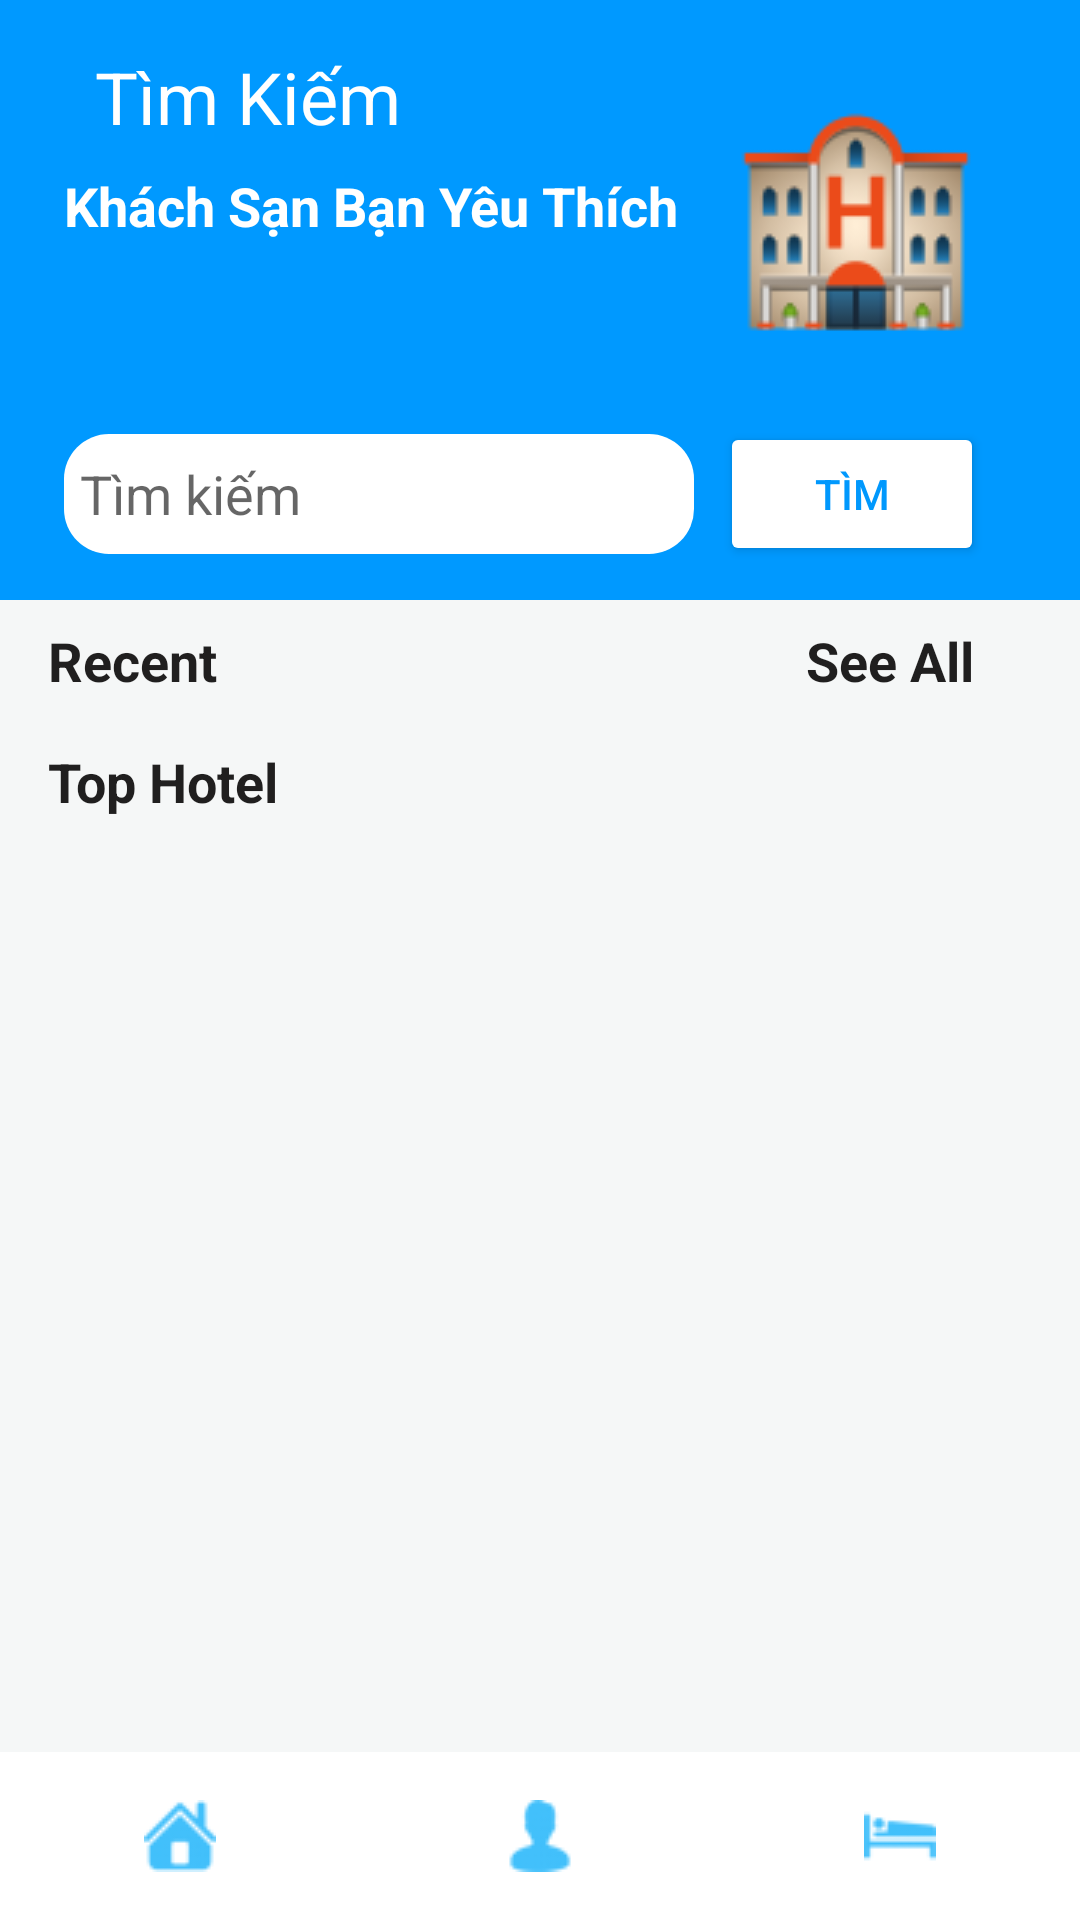

Named icons in this screenshot (1080w x 1920h) and their centers, (x,y):
home: (180,1836)
hotel: (856,222), (900,1836)
user: (540,1836)
